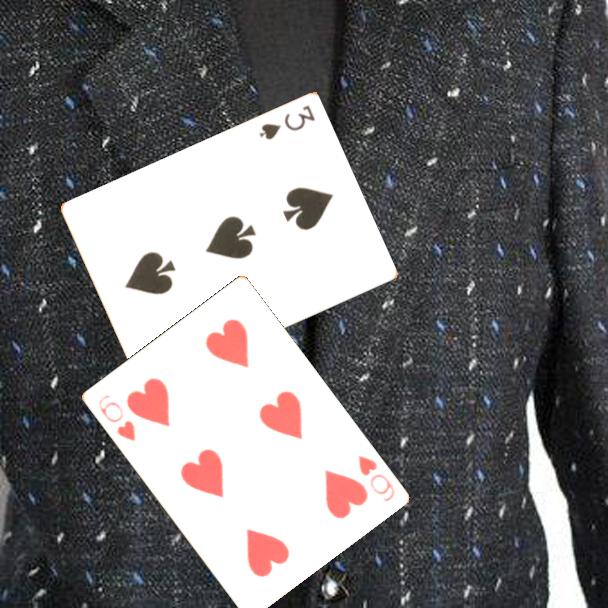h06: (94, 391, 138, 444), (354, 452, 397, 505)
s03: (256, 102, 318, 143)
